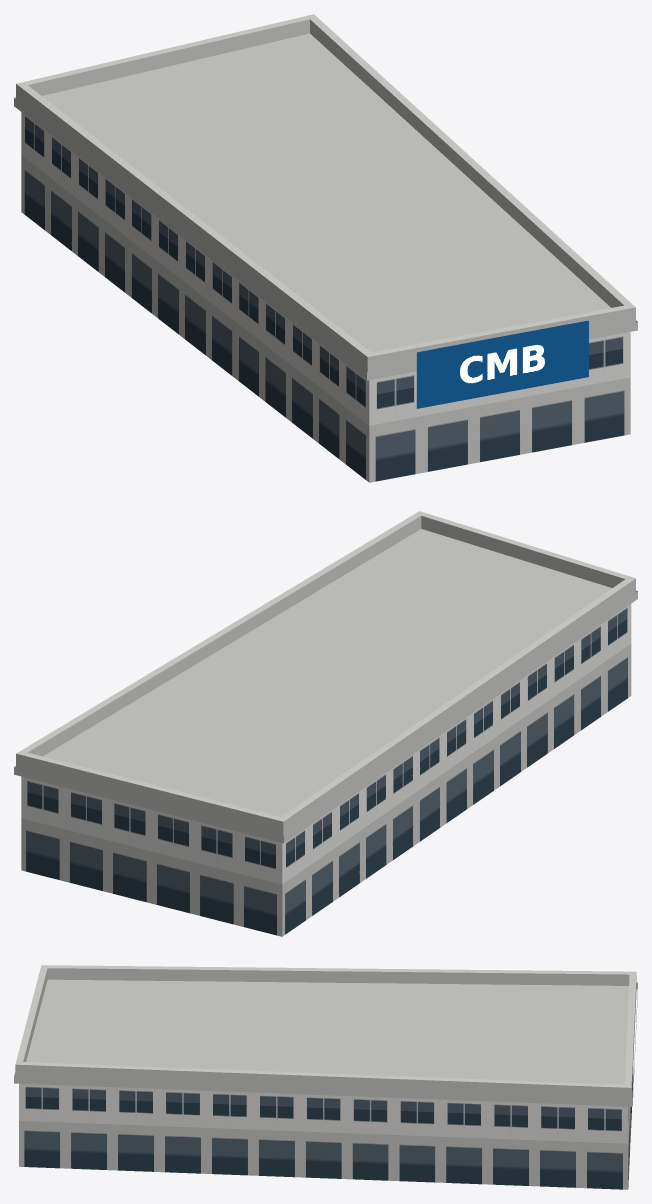
The model's file is cmb_main.glb.
The picture shows the model from 3 angles, top to bottom: view 1: azimuth 30°, elevation 25°; view 2: azimuth 150°, elevation 25°; view 3: azimuth 270°, elevation 25°; orthographic projection. The views are drawn at different scales.
Visible parts, largest first — view 1: cmb_main_lod0; view 2: cmb_main_lod0; view 3: cmb_main_lod0.
Boxes of the visible parts, <box> form: cmb_main_lod0: <box>14,14,637,482</box>; cmb_main_lod0: <box>14,511,637,936</box>; cmb_main_lod0: <box>14,965,637,1189</box>.
Size of what is drawn, in the model's own units: 23.14 by 9 by 49.24.
Materials: 5 (3 with a texture image).
